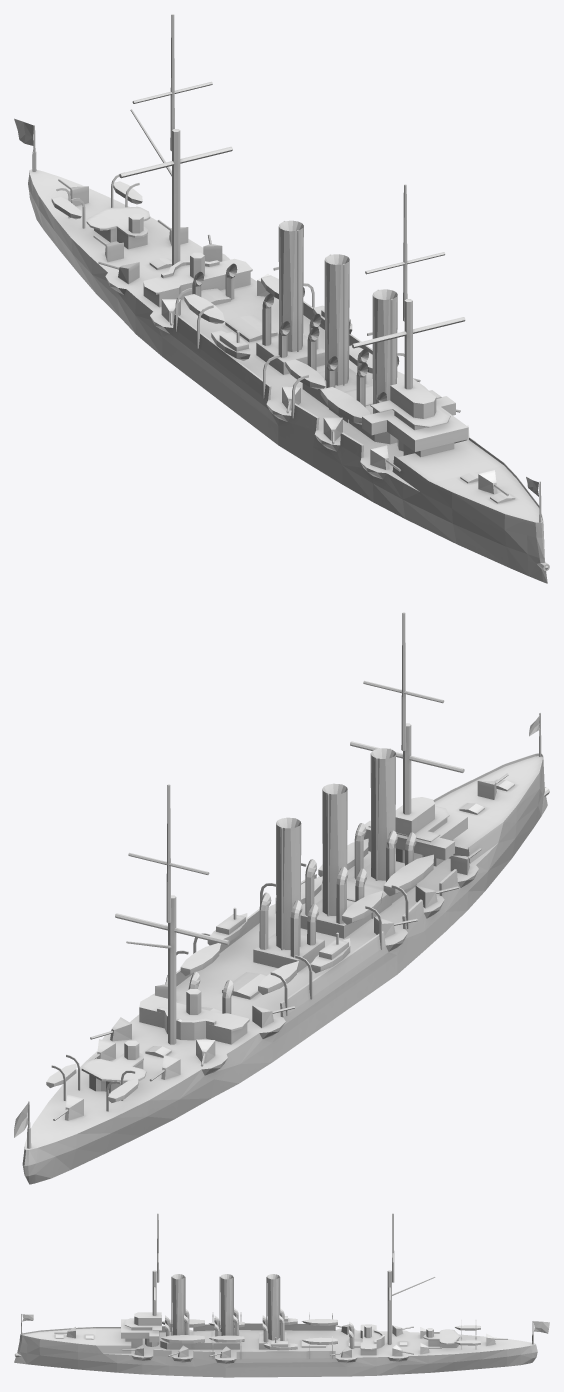
The model's file is avrora.dae.
The picture shows the model from 3 angles, top to bottom: view 1: azimuth 30°, elevation 25°; view 2: azimuth 150°, elevation 25°; view 3: azimuth 270°, elevation 25°; orthographic projection. The views are drawn at different scales.
Visible parts, largest first — view 1: Avrora; view 2: Avrora; view 3: Avrora.
Part boxes in pixels (x1,y1,x2,y2): Avrora: (14,14,549,583); Avrora: (14,612,549,1184); Avrora: (14,1213,549,1377).
Bounding box in the file's own units: 0.0292 × 0.2013 × 0.0618.
Materials: 1 (1 with a texture image).
